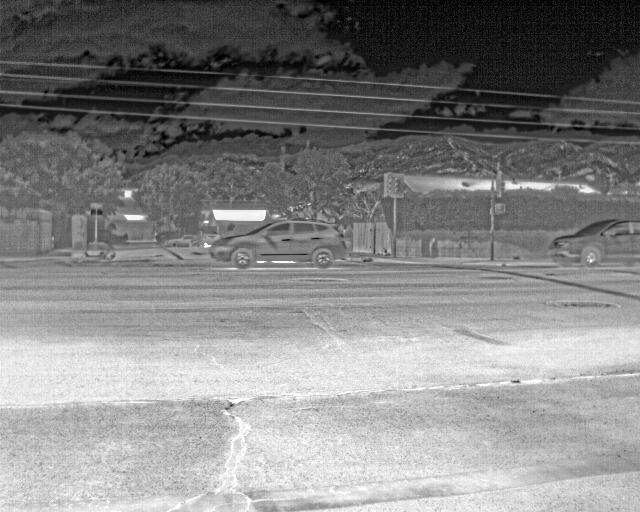car: (209, 218, 349, 268), (548, 218, 639, 270)
